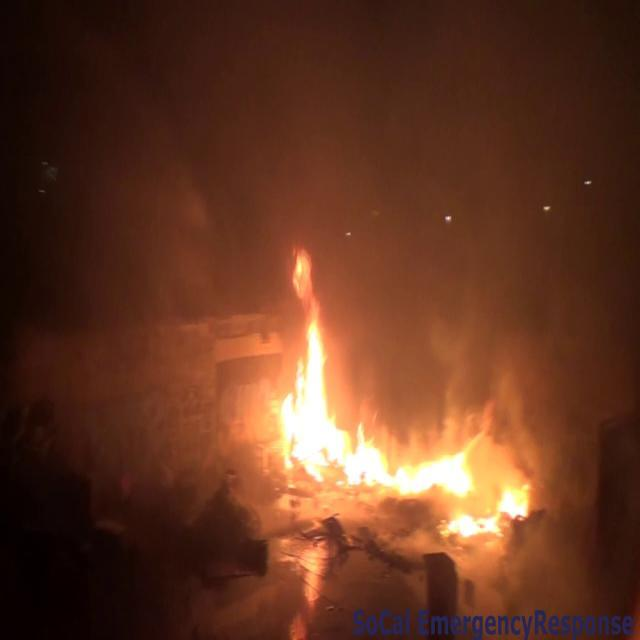Fire: (264, 263, 532, 542)
Smoke: (77, 0, 604, 396)
